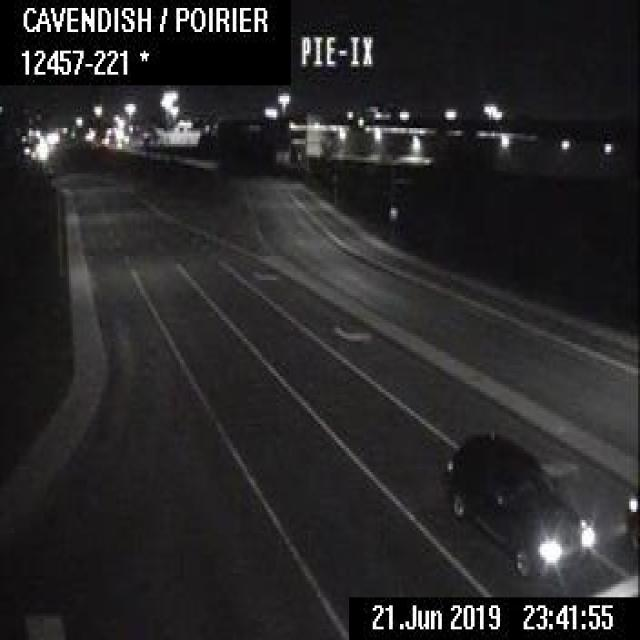vehicle: (445, 432, 594, 573), (620, 485, 638, 547)
